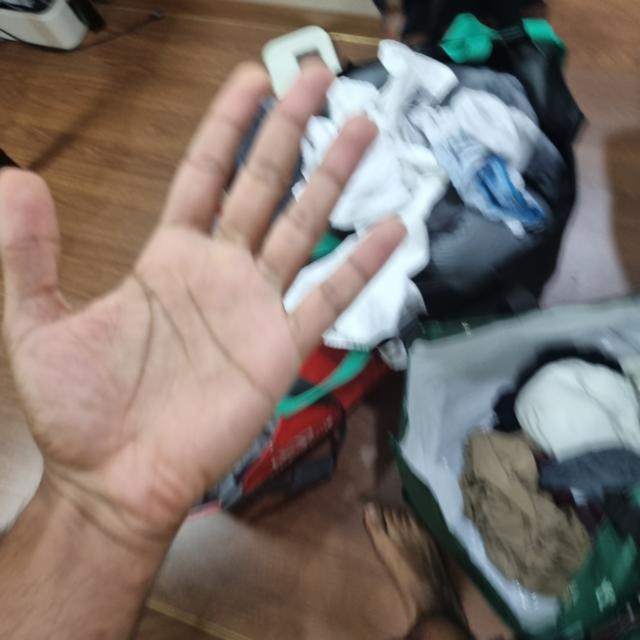Paper: (25, 59, 406, 511)
